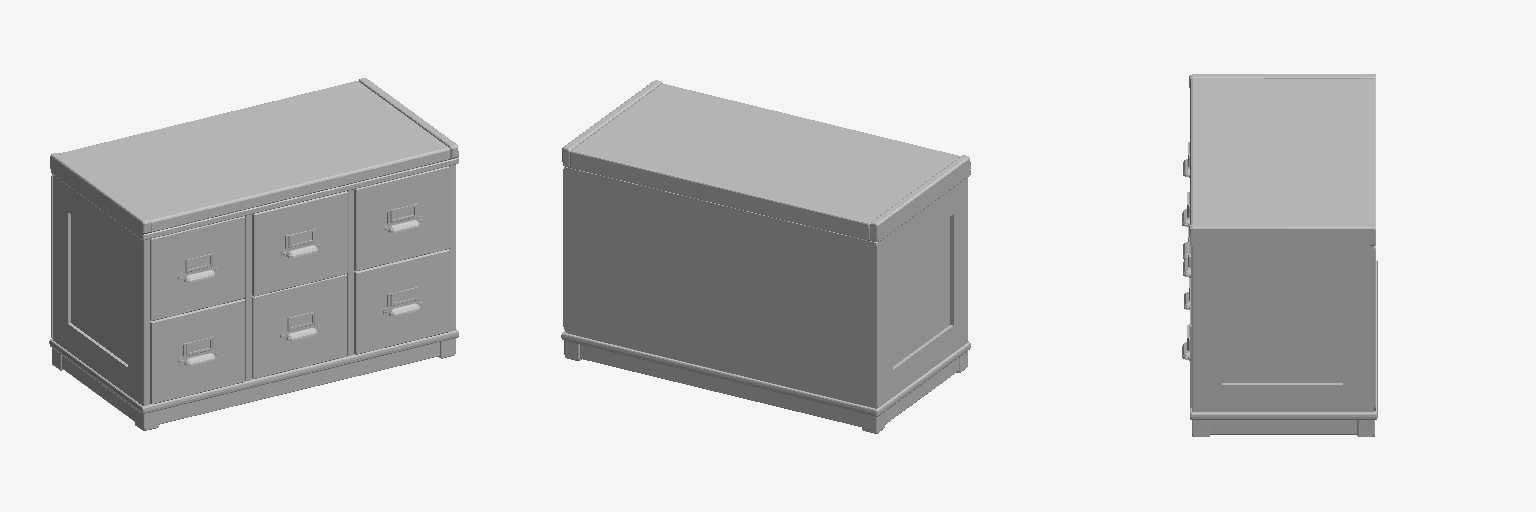
The model's file is mueble.obj.
3 renders of one model, left to right at view 1: azimuth 30°, elevation 25°; view 2: azimuth 150°, elevation 25°; view 3: azimuth 270°, elevation 25°, orthographic.
Parts seen in each view (by area): view 1: vintage_wooden_drawer_01_body_Cube.120, vintage_wooden_drawer_01_drawer06_Cube.133, vintage_wooden_drawer_01_drawer02_Cube.129, vintage_wooden_drawer_01_drawer03_Cube.131, vintage_wooden_drawer_01_drawer04_Cube.135, vintage_wooden_drawer_01_drawer01_Cube.128, vintage_wooden_drawer_01_drawer05_Cube.125; view 2: vintage_wooden_drawer_01_body_Cube.120; view 3: vintage_wooden_drawer_01_body_Cube.120.
Boxes of the visible parts, box(x1,y1,x2,y2) form: vintage_wooden_drawer_01_body_Cube.120: box(49, 78, 458, 430); vintage_wooden_drawer_01_drawer06_Cube.133: box(354, 249, 449, 354); vintage_wooden_drawer_01_drawer02_Cube.129: box(252, 191, 347, 296); vintage_wooden_drawer_01_drawer03_Cube.131: box(354, 166, 449, 270); vintage_wooden_drawer_01_drawer04_Cube.135: box(150, 299, 244, 403); vintage_wooden_drawer_01_drawer01_Cube.128: box(150, 216, 244, 320); vintage_wooden_drawer_01_drawer05_Cube.125: box(252, 274, 346, 378); vintage_wooden_drawer_01_body_Cube.120: box(561, 80, 970, 433); vintage_wooden_drawer_01_body_Cube.120: box(1189, 74, 1377, 436).
Bounding box in the file's own units: 0.8576 × 0.5454 × 0.4574.